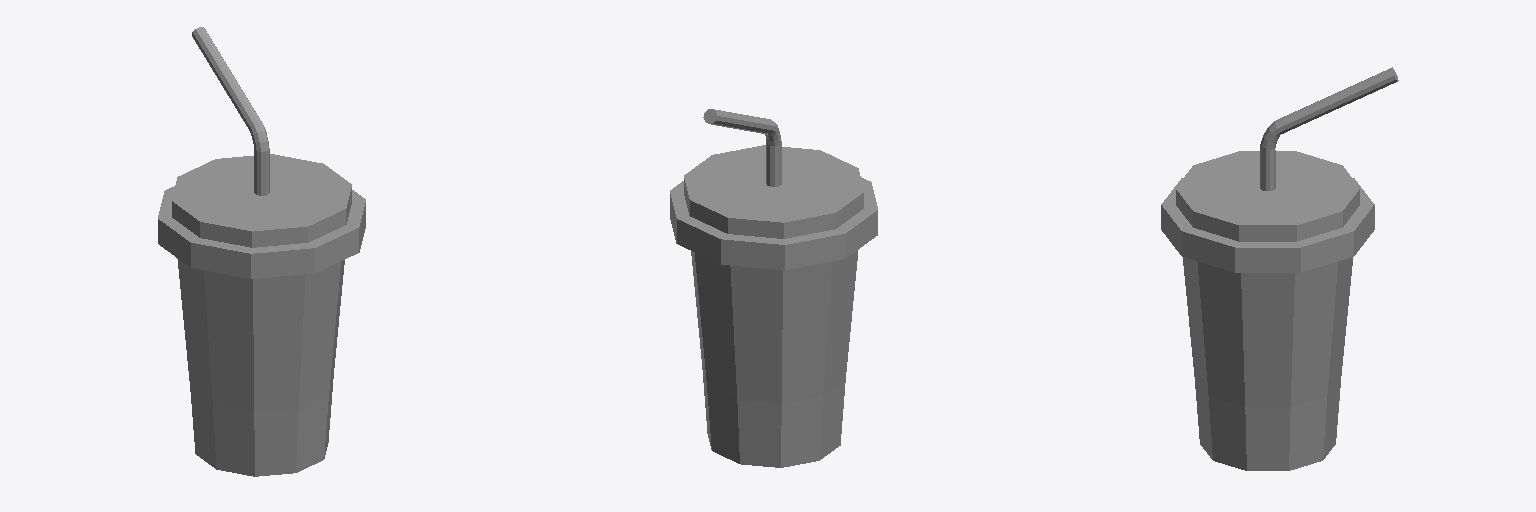
Rendered from Soda.obj.
3 renders of one model, left to right at view 1: azimuth 30°, elevation 25°; view 2: azimuth 150°, elevation 25°; view 3: azimuth 270°, elevation 25°, orthographic.
Parts seen in each view (by area): view 1: Soda_Cylinder; view 2: Soda_Cylinder; view 3: Soda_Cylinder.
Boxes of the visible parts, <box> form: Soda_Cylinder: <box>158,27,365,476</box>; Soda_Cylinder: <box>670,109,877,467</box>; Soda_Cylinder: <box>1161,67,1398,470</box>.
Size of the model in its own units: 1.21 by 2.47 by 1.41.